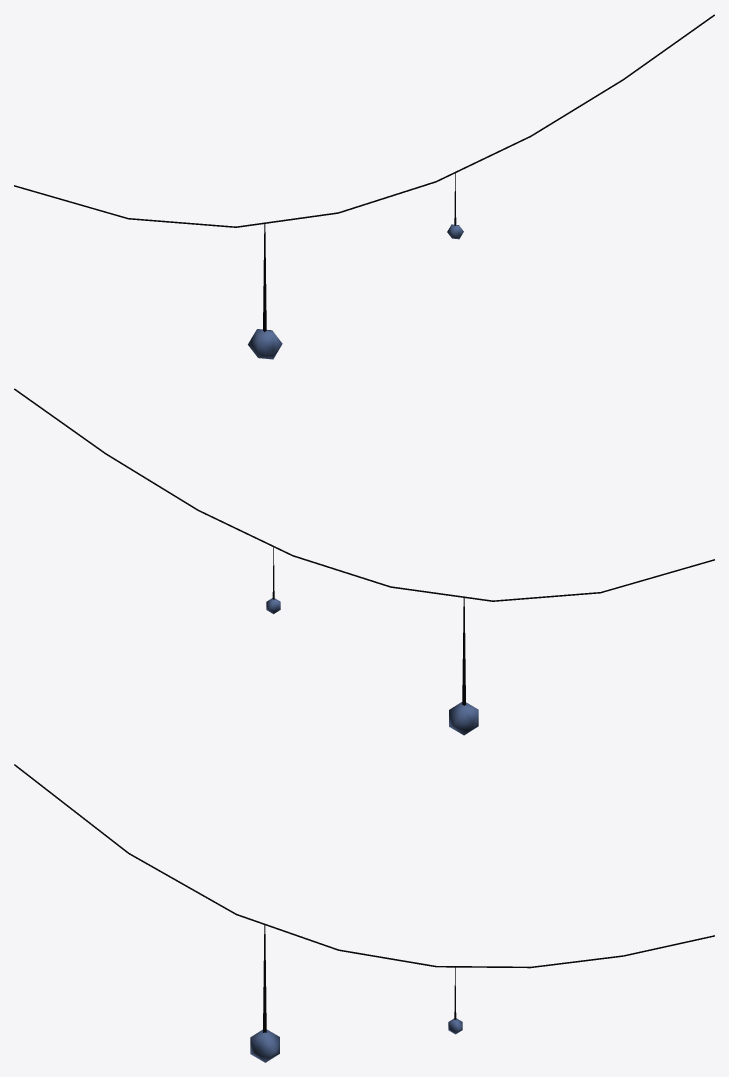
Rendered from Garland_A_5_SpherifyLamps_Blue.fbx.
3 views of the same model, one above another, from view 1: azimuth 30°, elevation 25°; view 2: azimuth 150°, elevation 25°; view 3: azimuth 330°, elevation 25° (orthographic).
Visible parts, largest first — view 1: Garland_A_5_SpherifyLamps_Blue; view 2: Garland_A_5_SpherifyLamps_Blue; view 3: Garland_A_5_SpherifyLamps_Blue.
Part boxes in pixels (<box>): Garland_A_5_SpherifyLamps_Blue: <box>14,14,714,359</box>; Garland_A_5_SpherifyLamps_Blue: <box>14,388,714,735</box>; Garland_A_5_SpherifyLamps_Blue: <box>14,764,714,1062</box>.
Size of the model in its own units: 673 by 214 by 29.13.
